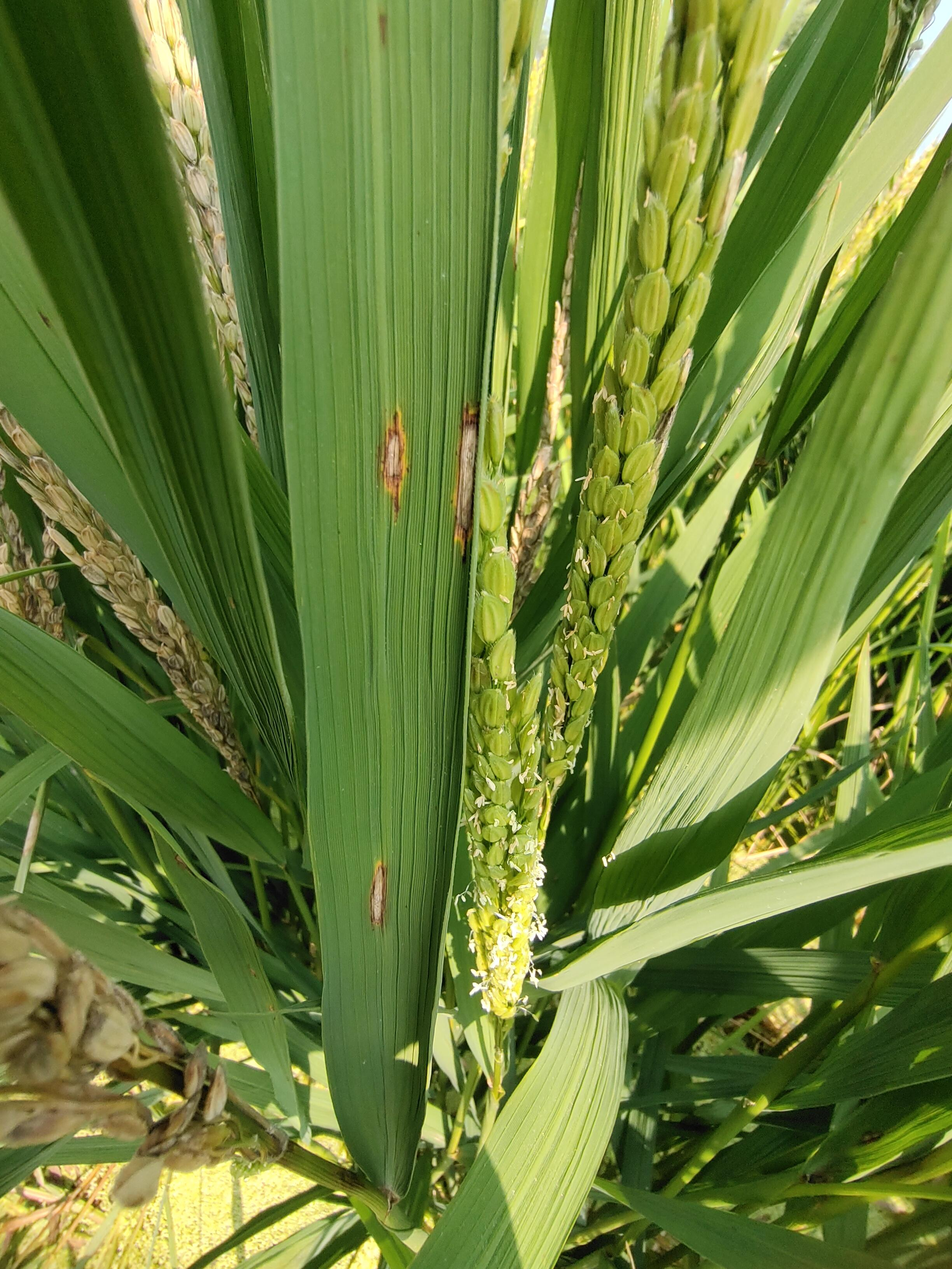LEAF: (266, 0, 498, 1205)
LEAF BLAST: (454, 405, 479, 556), (382, 409, 406, 516), (369, 862, 386, 928)
